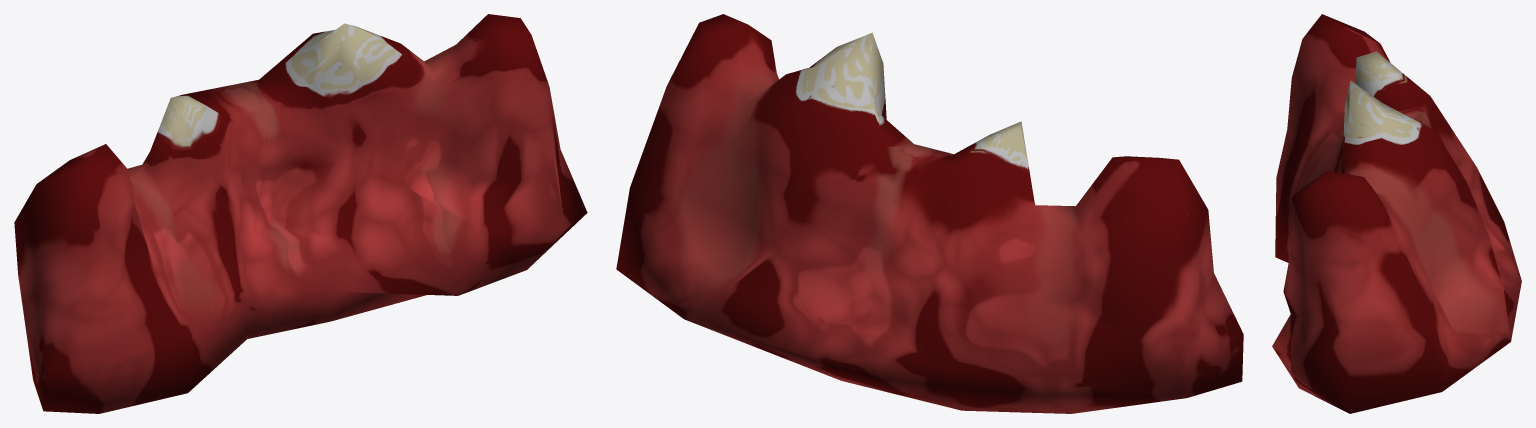
Rendered from BarreraFBX.FBX.
3 views of the same model, side by side, from view 1: azimuth 30°, elevation 25°; view 2: azimuth 150°, elevation 25°; view 3: azimuth 270°, elevation 25° (orthographic). The views are drawn at different scales.
Parts seen in each view (by area): view 1: Group24274; view 2: Group24274; view 3: Group24274.
Boxes of the visible parts, bbox=[...] form: Group24274: bbox=[14, 14, 587, 413]; Group24274: bbox=[616, 14, 1243, 413]; Group24274: bbox=[1272, 14, 1521, 413].
Bounding box in the file's own units: 89.45 × 44.5 × 37.01.
1 material, 1 textured.
